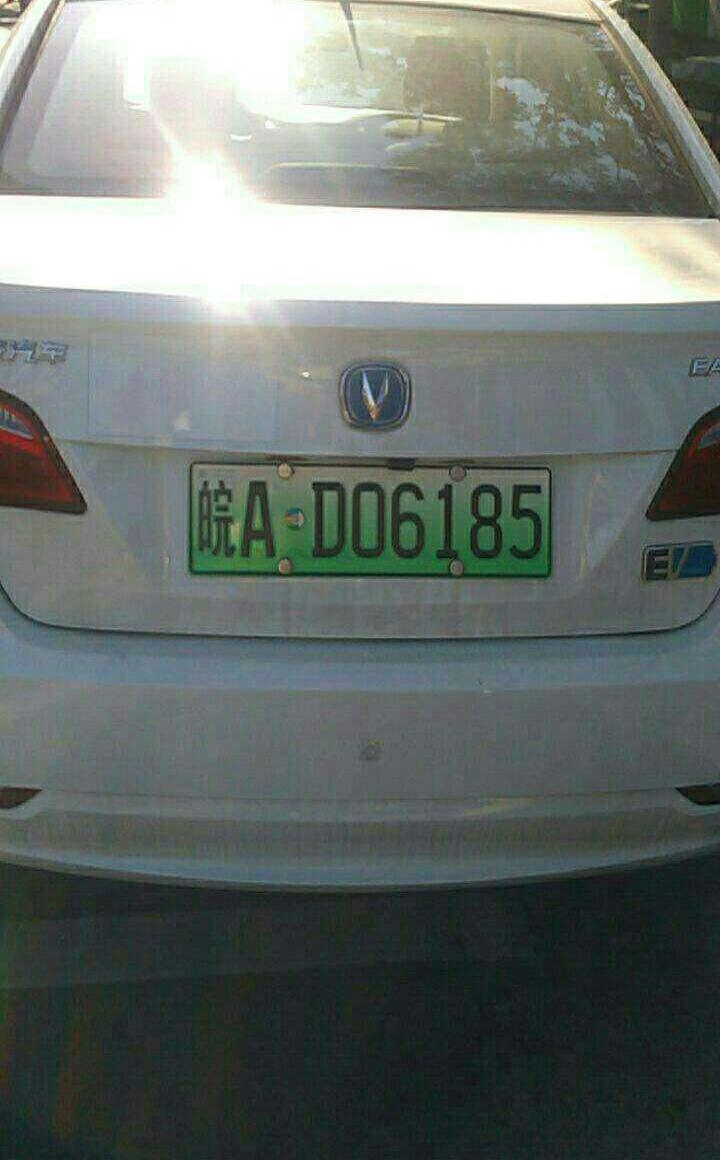car_id: (194, 464, 548, 577)
